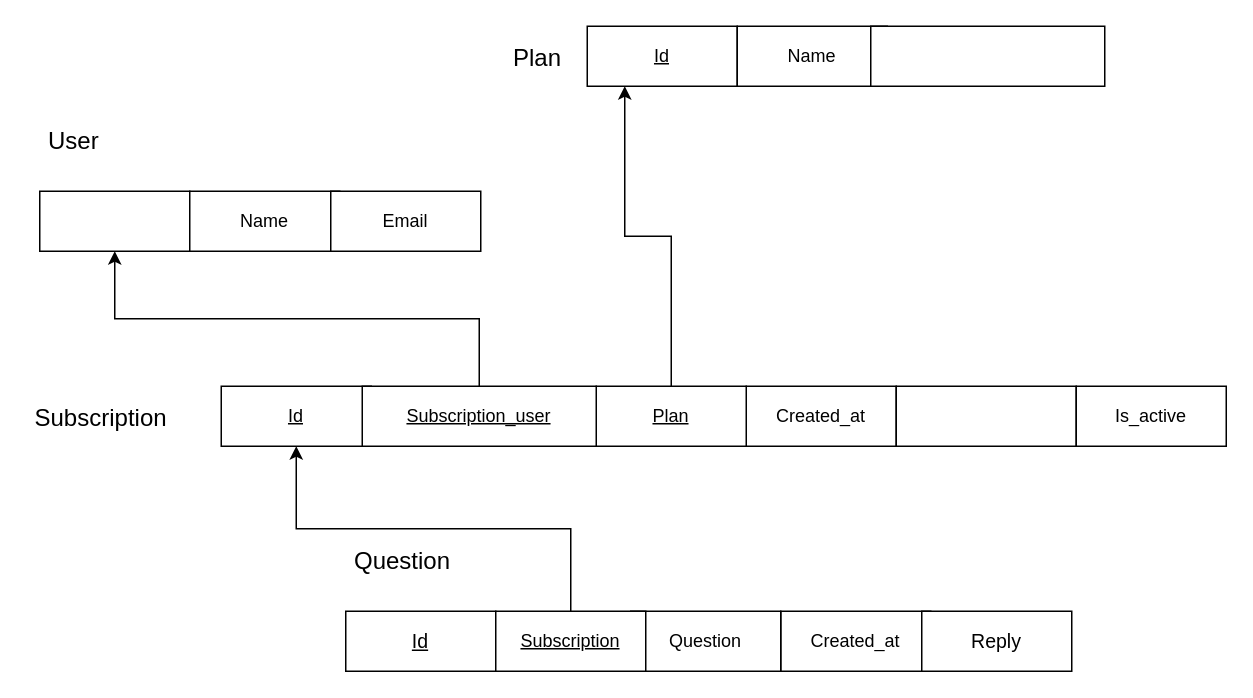
Image size: 1253x698. Some labels were removed from this diagram. Each missing label, with the centre of its shape:
Expiration_date: point (985, 415)
Monthly_prompt_limit: point (987, 55)
Phone_number: point (114, 220)
